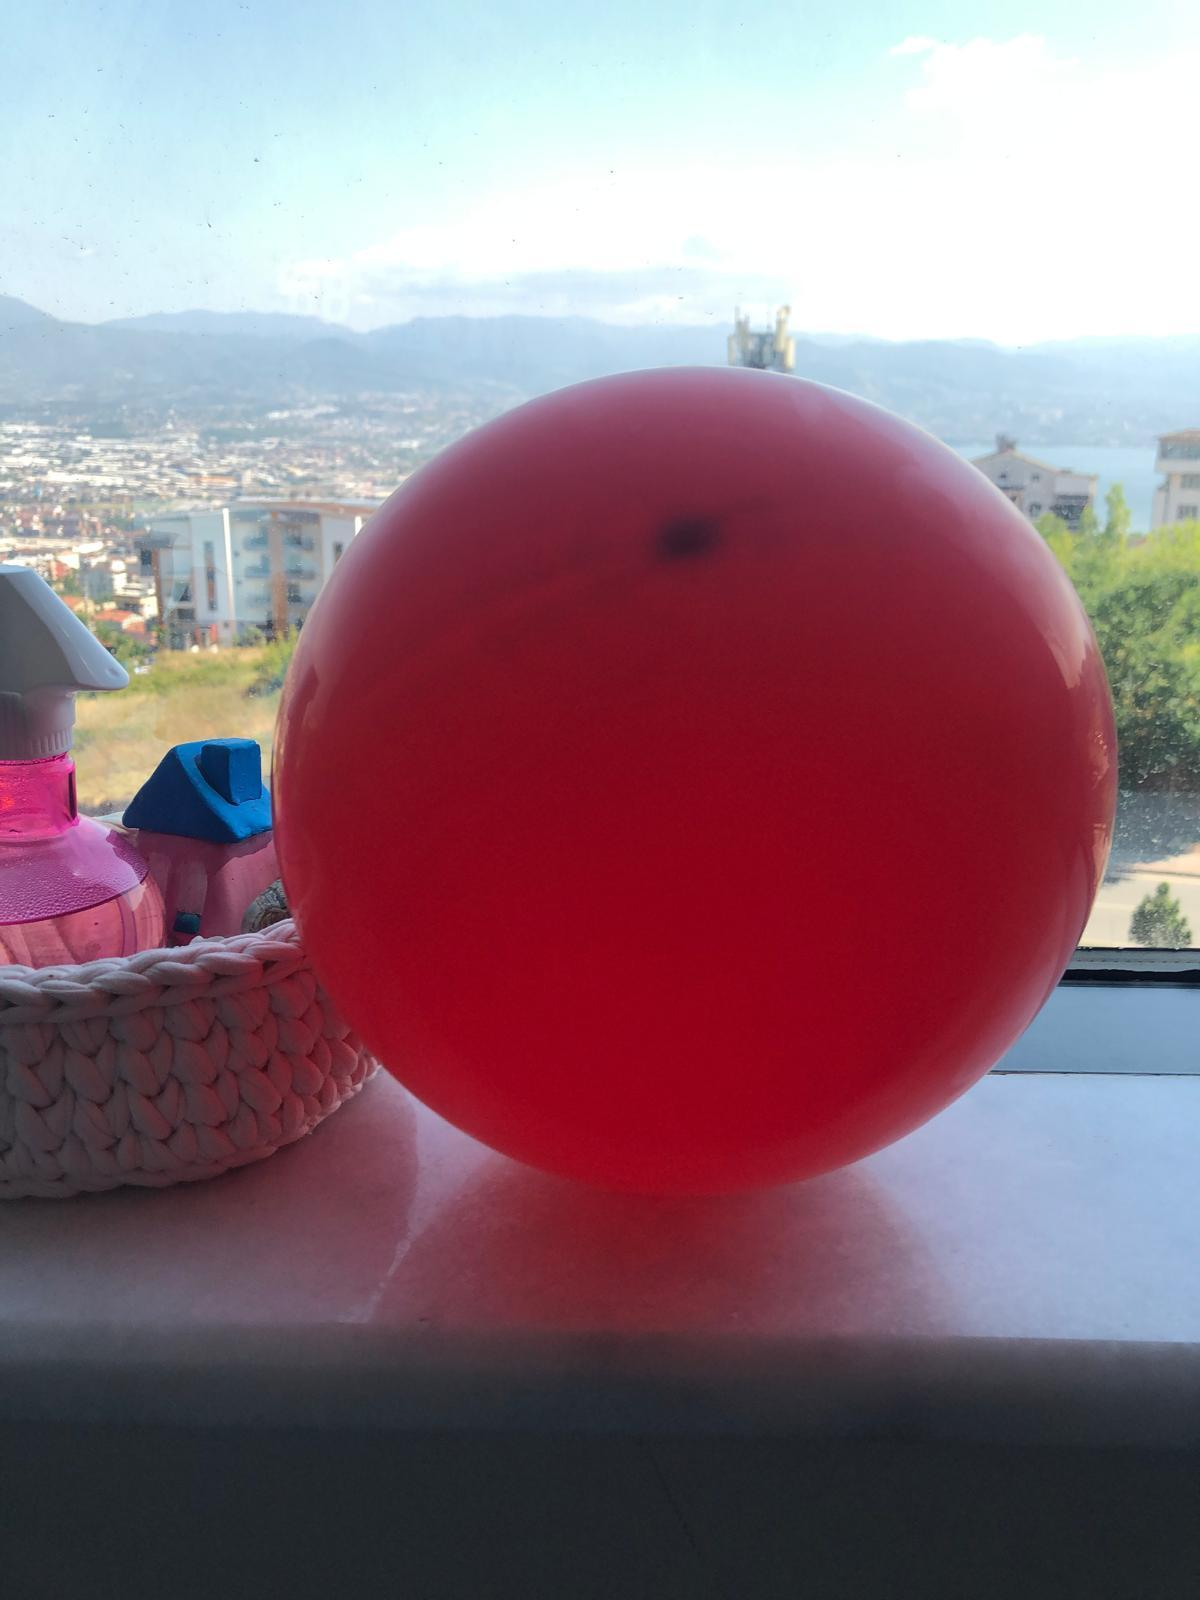red: (274, 364, 1124, 1199)
